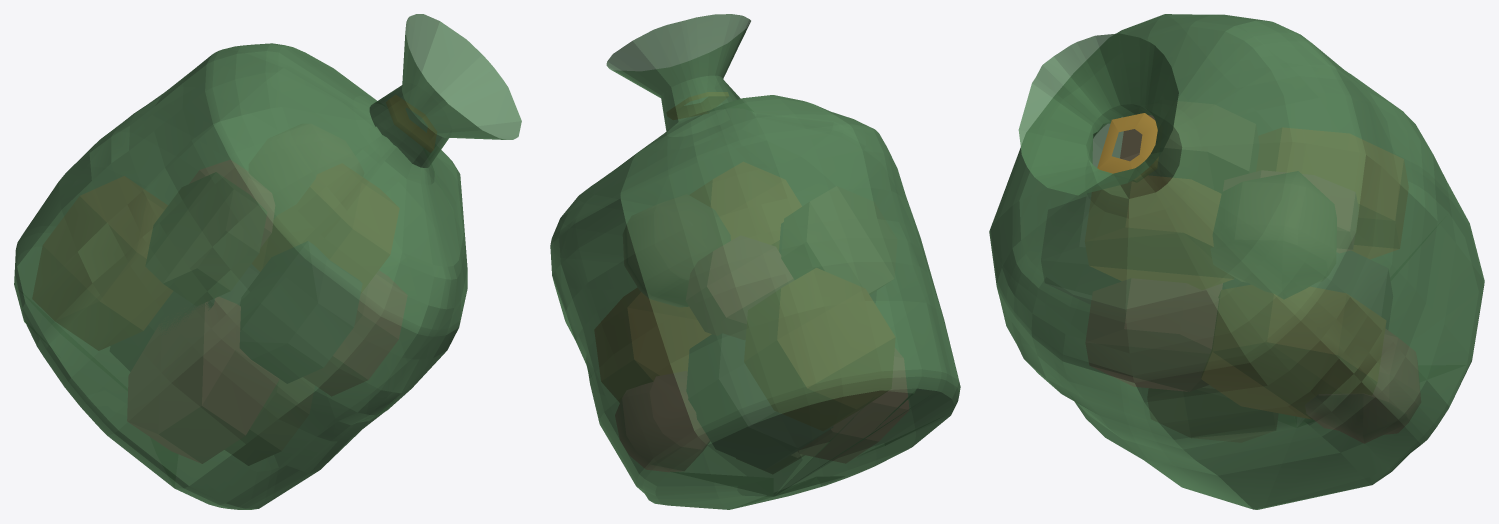
The model's file is bag2.fbx.
3 views of the same model, side by side, from view 1: azimuth 30°, elevation 25°; view 2: azimuth 150°, elevation 25°; view 3: azimuth 270°, elevation 25° (orthographic). The views are drawn at different scales.
Parts seen in each view (by area): view 1: Trash1; view 2: Trash1; view 3: Trash1.
Boxes of the visible parts, x1,y1,x2,y2 form: Trash1: [14, 14, 521, 509]; Trash1: [550, 14, 960, 509]; Trash1: [989, 14, 1484, 509].
Bounding box in the file's own units: 58.8 × 63.77 × 55.28.
